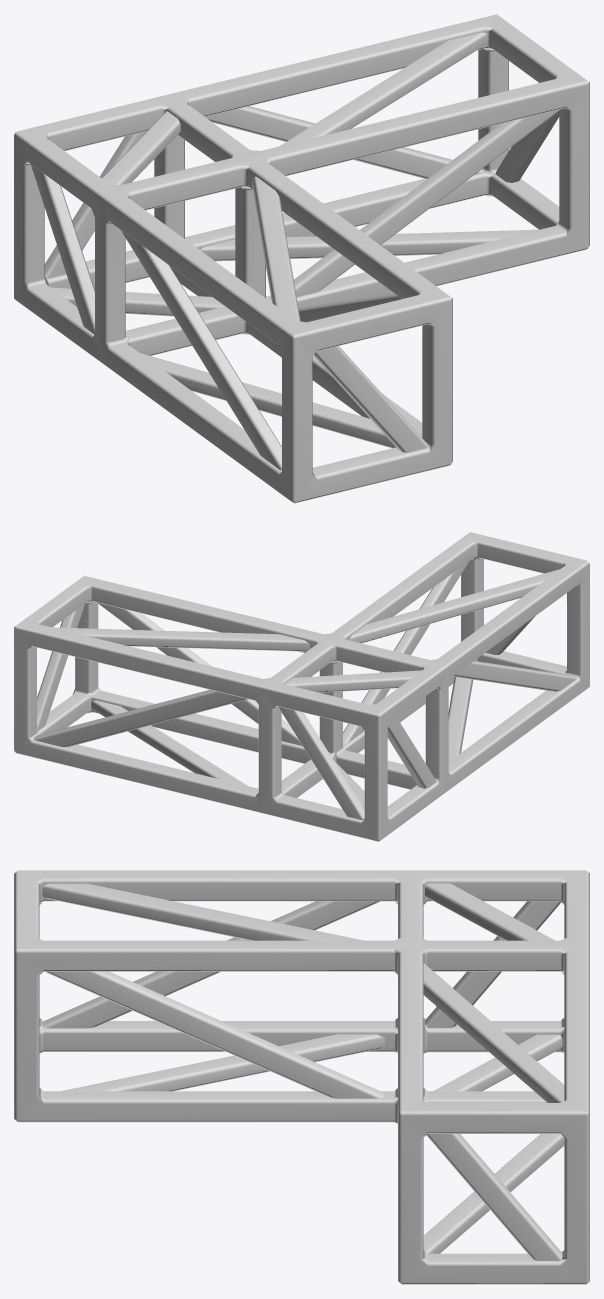
Rendered from truss_003.fbx.
3 renders of one model, top to bottom at view 1: azimuth 30°, elevation 25°; view 2: azimuth 150°, elevation 25°; view 3: azimuth 270°, elevation 25°, orthographic. The views are drawn at different scales.
Parts seen in each view (by area): view 1: truss_003; view 2: truss_003; view 3: truss_003.
Part boxes in pixels (x1=…): truss_003: x1=14, y1=14, x2=589, y2=503; truss_003: x1=14, y1=532, x2=589, y2=841; truss_003: x1=14, y1=870, x2=589, y2=1284.
Bounding box in the file's own units: 1500 × 1500 × 500.
